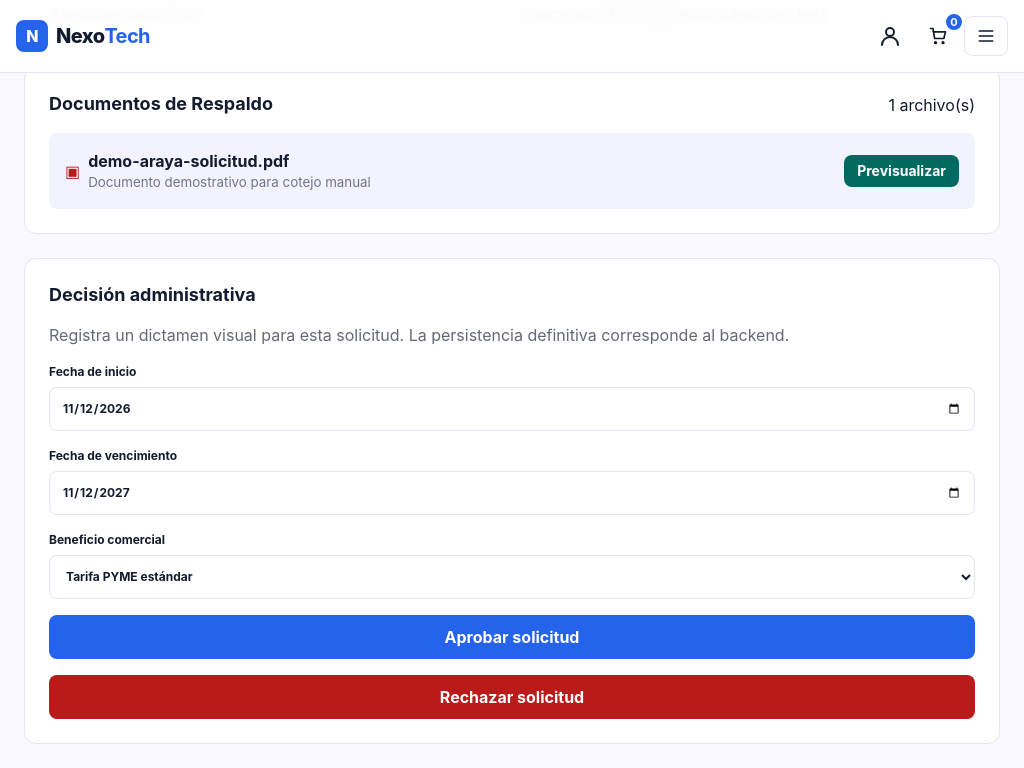
Test: panel administrativo › registra un dictamen visual sin mutar el repositorio
(page scrolled)
Click the button "Aprobar solicitud" at [512, 637], box [49, 615, 975, 659]
(page scrolled)
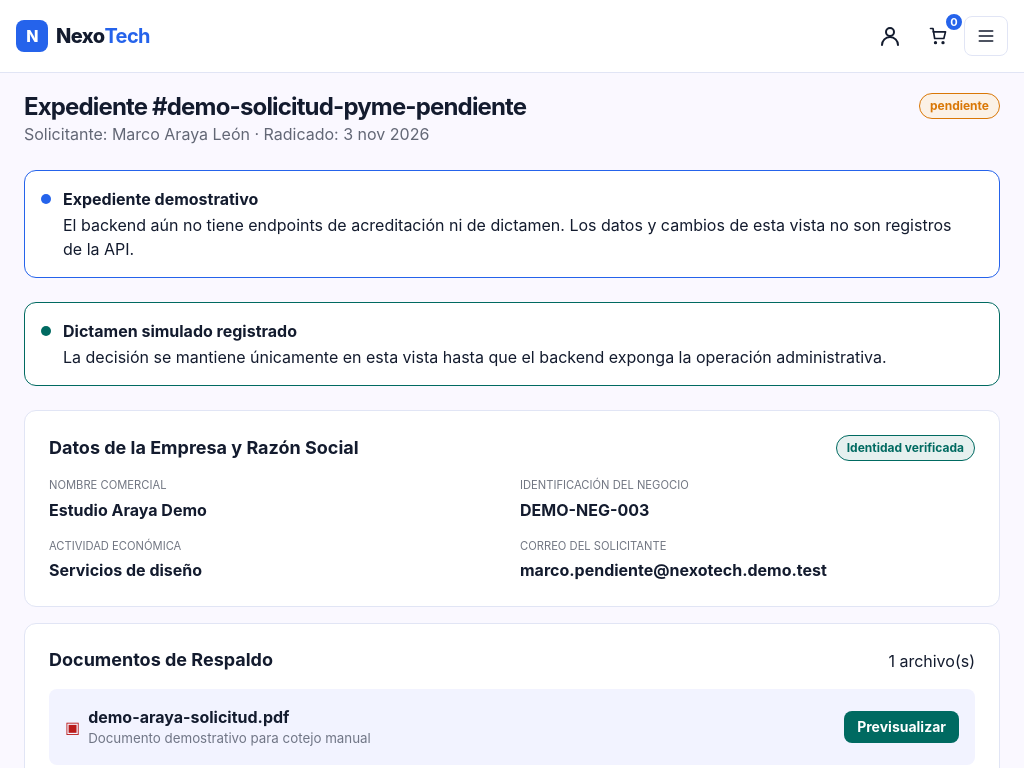
Now the text "Dictamen simulado registrado" is shown, box [63, 321, 297, 341]
